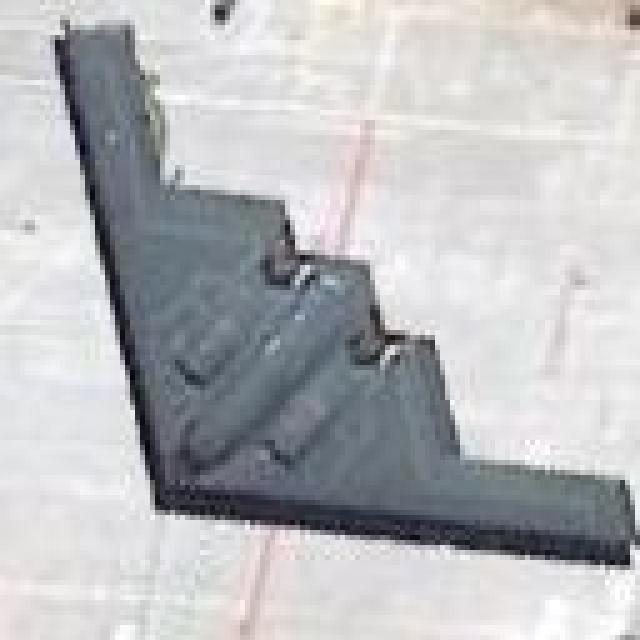B-2_TopDown: (45, 10, 635, 570)
